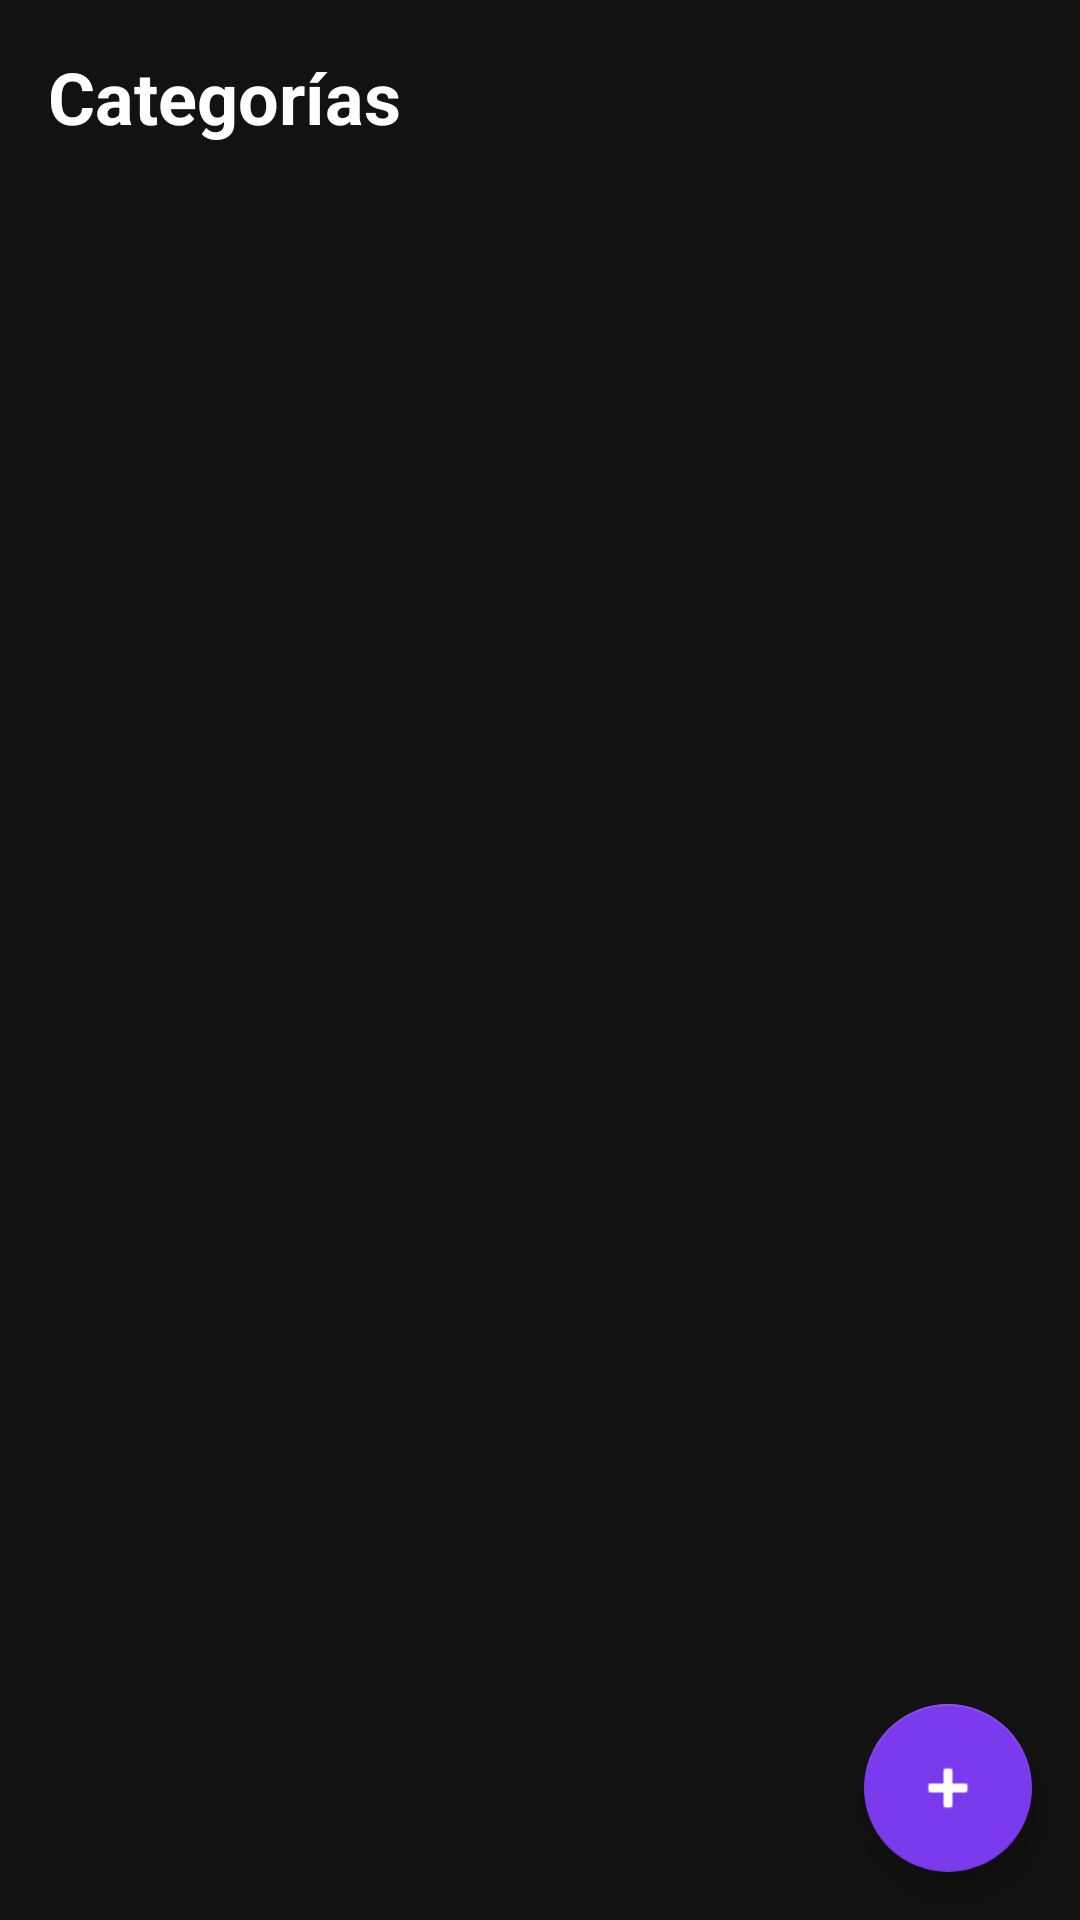

Screen size 1080w x 1920h. Icon name, then its center in pixels as [x,y]:
Añadir categoría: [948,1788]
